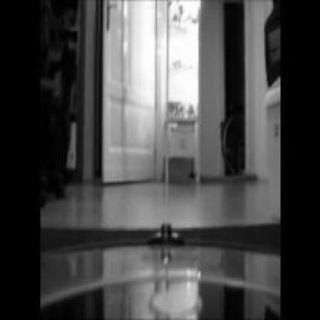other: (166, 14, 198, 108)
